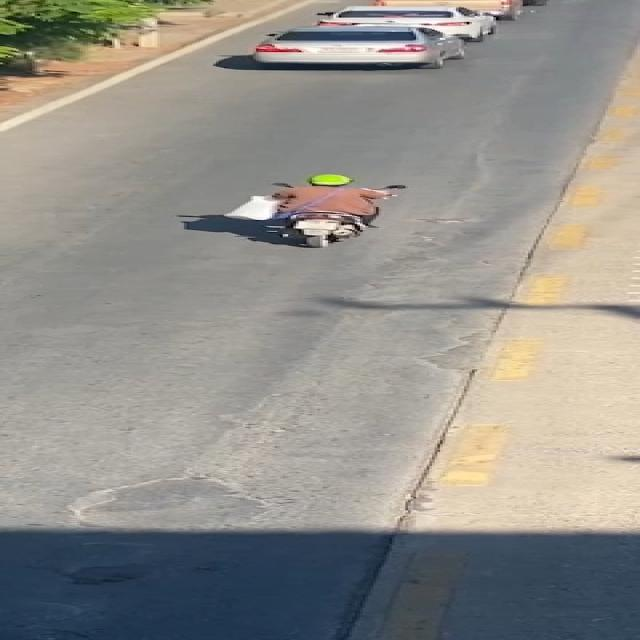car: (240, 23, 503, 72), (301, 2, 518, 46)
